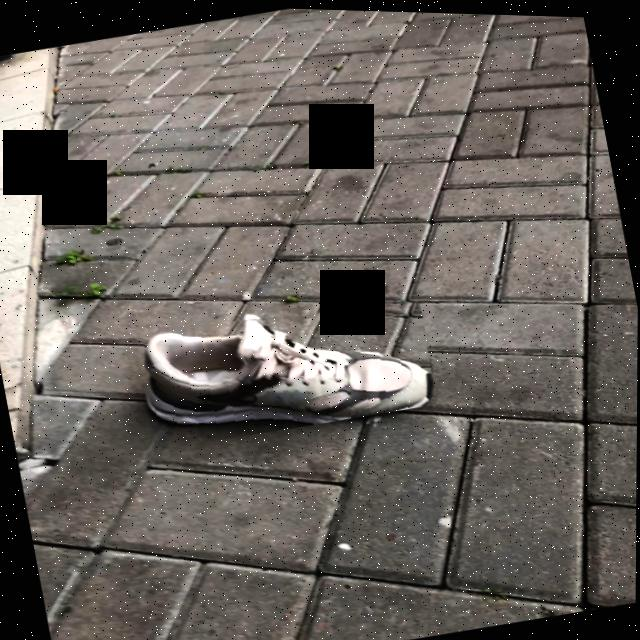shoe: (145, 317, 434, 426)
